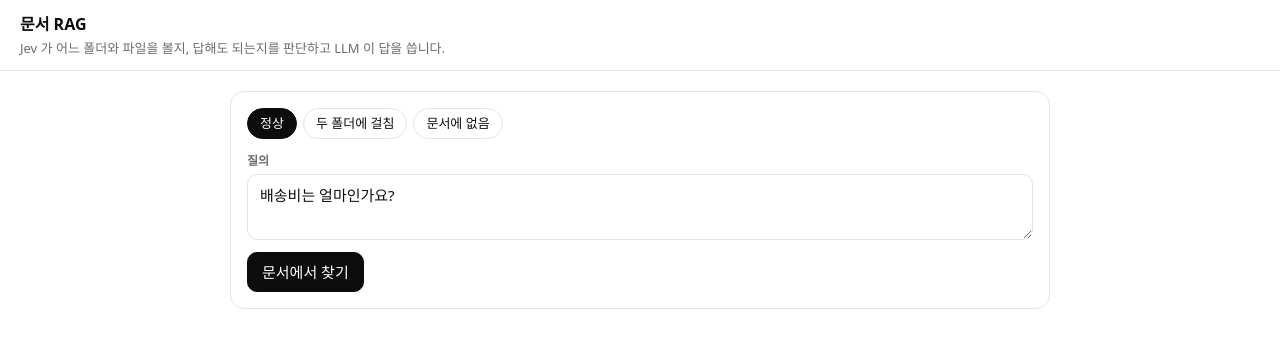
Test case: RagTab › should show the pending state while the request is running
Click the button "문서에서 찾기" at (305, 272), box [247,252,364,292]
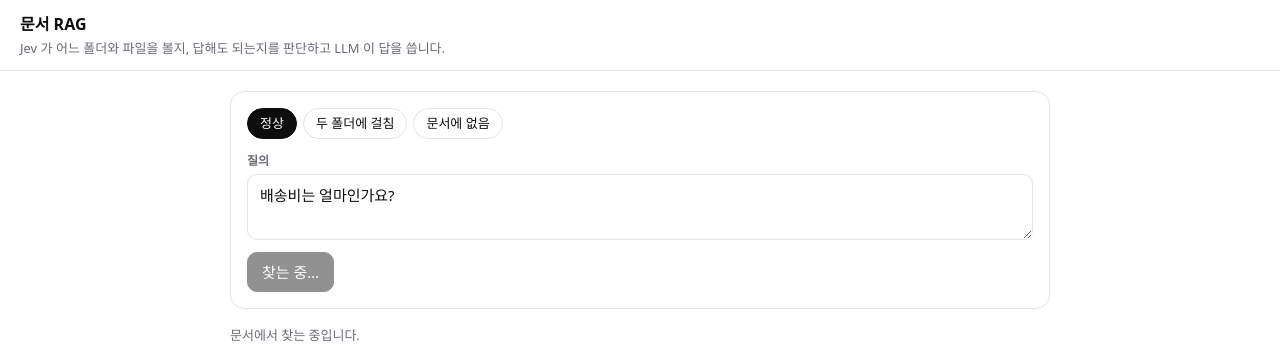
Result: the button "찾는 중…" is disabled at [247,252,334,292]
Result: the message reads "문서에서 찾는 중입니다." at [230,326,360,344]
